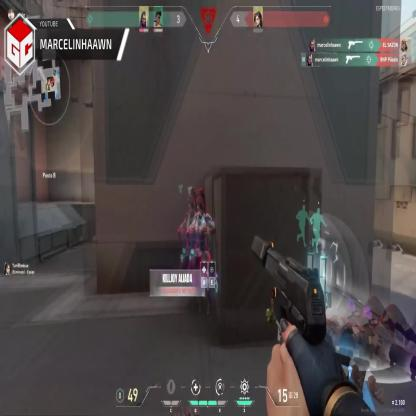enemy: (180, 190, 214, 300)
enemy_head: (195, 198, 204, 218)
